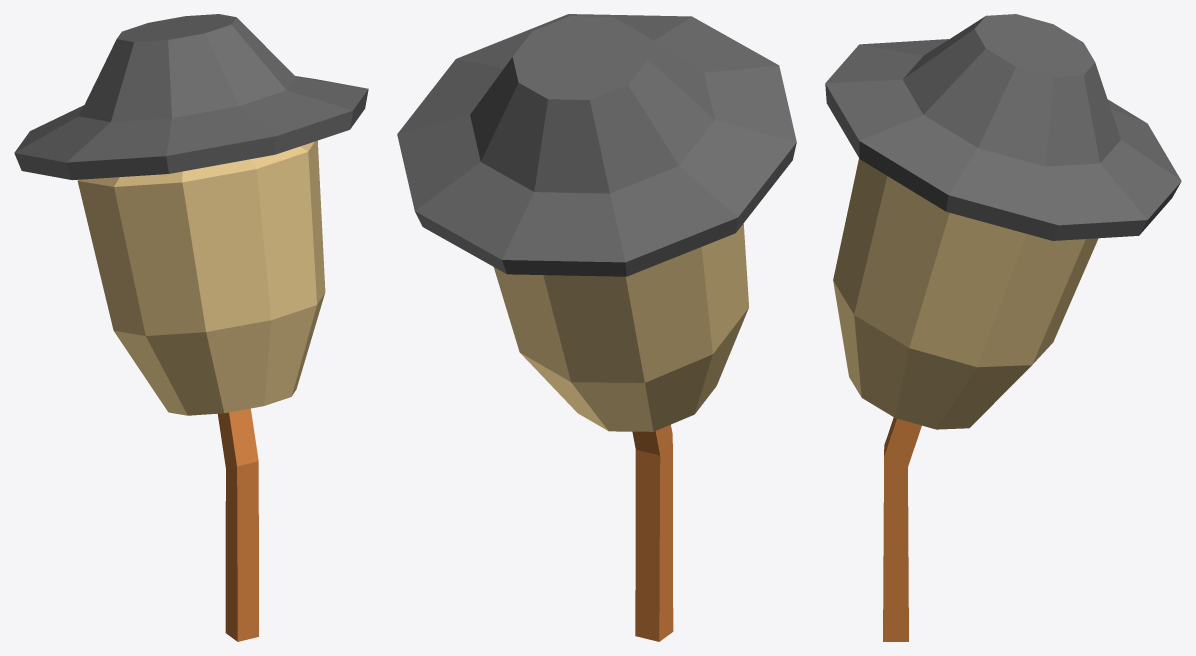
The model's file is Manikin.fbx.
The picture shows the model from 3 angles, left to right: view 1: azimuth 30°, elevation 25°; view 2: azimuth 150°, elevation 25°; view 3: azimuth 270°, elevation 25°; orthographic projection. The views are drawn at different scales.
Parts seen in each view (by area): view 1: Cube; view 2: Cube; view 3: Cube.
Part boxes in pixels (bbox=[...]): Cube: bbox=[14, 14, 368, 641]; Cube: bbox=[397, 14, 796, 641]; Cube: bbox=[825, 14, 1181, 641].
Size of the model in its own units: 302 by 549 by 292.
